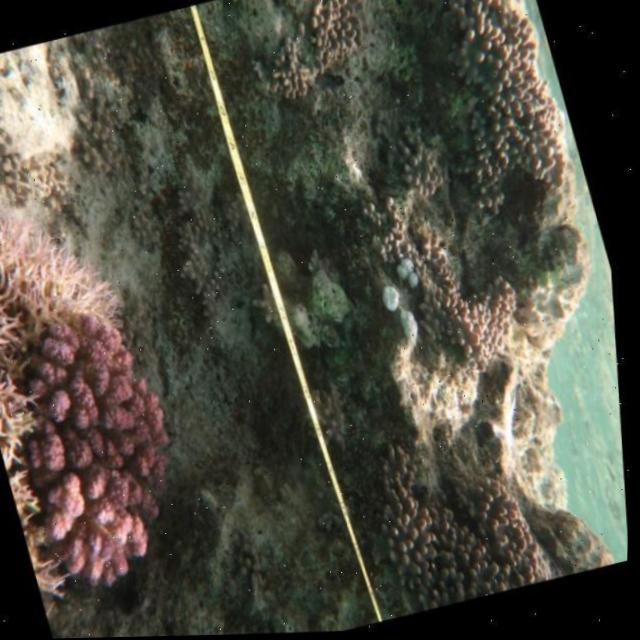Bleached Coral: (0, 314, 219, 602)
